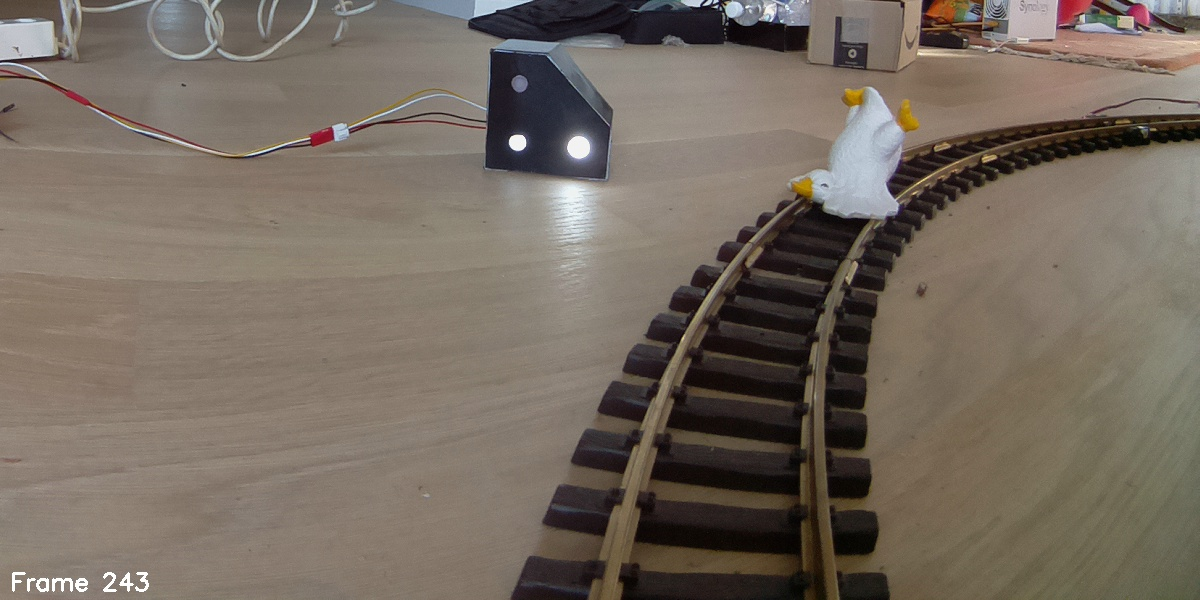Ente: (788, 80, 918, 222)
Halt: (489, 36, 612, 184)
